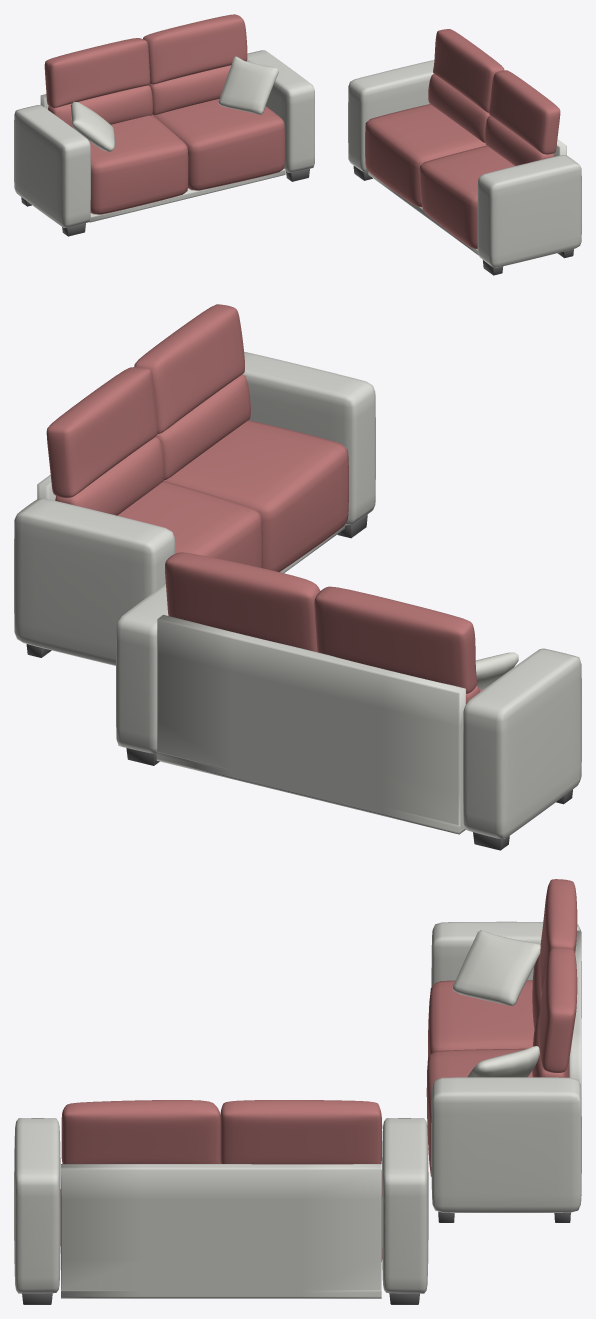
Rendered from simple_sofa.glb.
3 views of the same model, one above another, from view 1: azimuth 30°, elevation 25°; view 2: azimuth 150°, elevation 25°; view 3: azimuth 270°, elevation 25° (orthographic). The views are drawn at different scales.
Visible parts, largest first — view 1: coj_grandes_Cube.003, coj_grandes.001_Cube.012, base_sofa.001_Cube.011, base_sofa_Cube.002, cojin2_Cube.005, cojin1_Cube.004; view 2: base_sofa_Cube.002, coj_grandes.001_Cube.012, base_sofa.001_Cube.011, coj_grandes_Cube.003, cojin1_Cube.004; view 3: base_sofa.001_Cube.011, base_sofa_Cube.002, coj_grandes.001_Cube.012, coj_grandes_Cube.003, cojin1_Cube.004, cojin2_Cube.005.
Part boxes in pixels (left/top/right/bottom): coj_grandes_Cube.003: left=44, top=14, right=284, bottom=214; coj_grandes.001_Cube.012: left=365, top=29, right=560, bottom=249; base_sofa.001_Cube.011: left=348, top=60, right=581, bottom=267; base_sofa_Cube.002: left=14, top=50, right=314, bottom=227; cojin2_Cube.005: left=218, top=56, right=278, bottom=114; cojin1_Cube.004: left=70, top=101, right=115, bottom=151; base_sofa_Cube.002: left=116, top=584, right=581, bottom=839; coj_grandes.001_Cube.012: left=46, top=304, right=348, bottom=571; base_sofa.001_Cube.011: left=14, top=351, right=375, bottom=665; coj_grandes_Cube.003: left=165, top=552, right=483, bottom=703; cojin1_Cube.004: left=475, top=652, right=518, bottom=689; base_sofa.001_Cube.011: left=14, top=1118, right=428, bottom=1298; base_sofa_Cube.002: left=431, top=921, right=581, bottom=1212; coj_grandes.001_Cube.012: left=60, top=1100, right=382, bottom=1261; coj_grandes_Cube.003: left=426, top=879, right=577, bottom=1176; cojin1_Cube.004: left=452, top=930, right=540, bottom=1006; cojin2_Cube.005: left=467, top=1046, right=539, bottom=1077.
Bounding box in the file's own units: 3.24 × 1.16 × 3.01.
